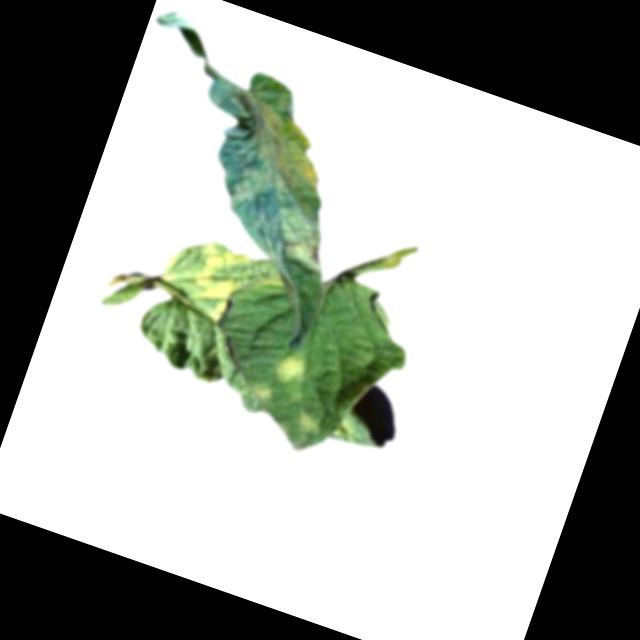Leaf_Mold: (236, 102, 338, 196), (180, 239, 253, 326), (261, 212, 336, 276), (268, 346, 309, 390), (293, 410, 323, 439), (244, 379, 274, 408)
